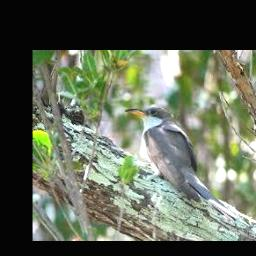Cuckoo: (126, 104, 229, 210)
